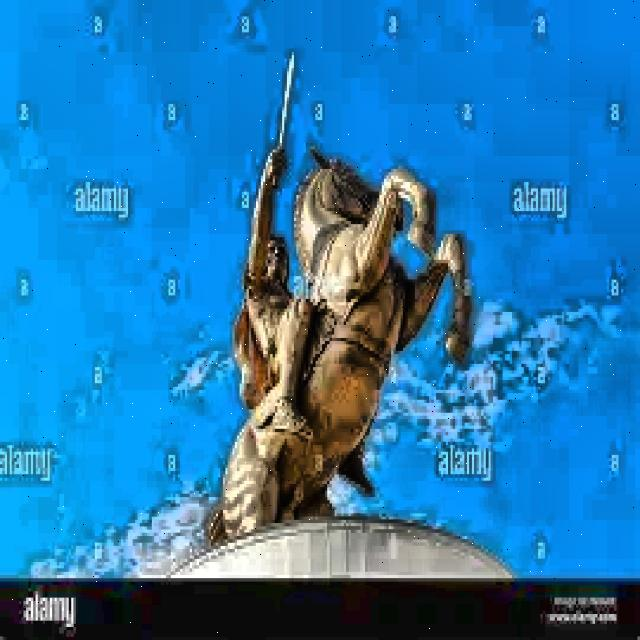alexander the great monument: (166, 54, 480, 566)
